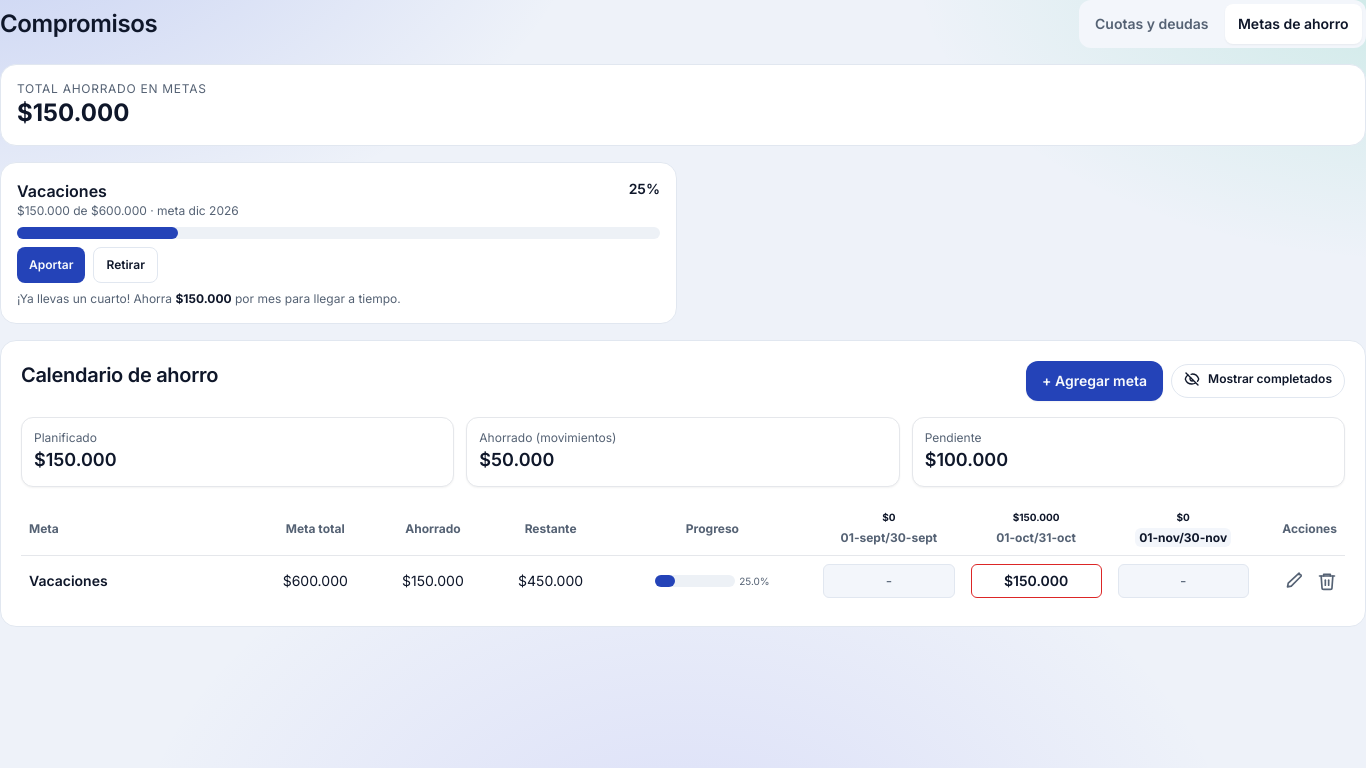
Scenario: Nueva meta de ahorro en modal › el formulario se abre con "+ Agregar meta" y se cierra con Escape
Expected: the field with placeholder "Fondo de emergencia" is not shown
Click the button "+ Agregar meta" at (1094, 381), box [1026,361,1163,401]
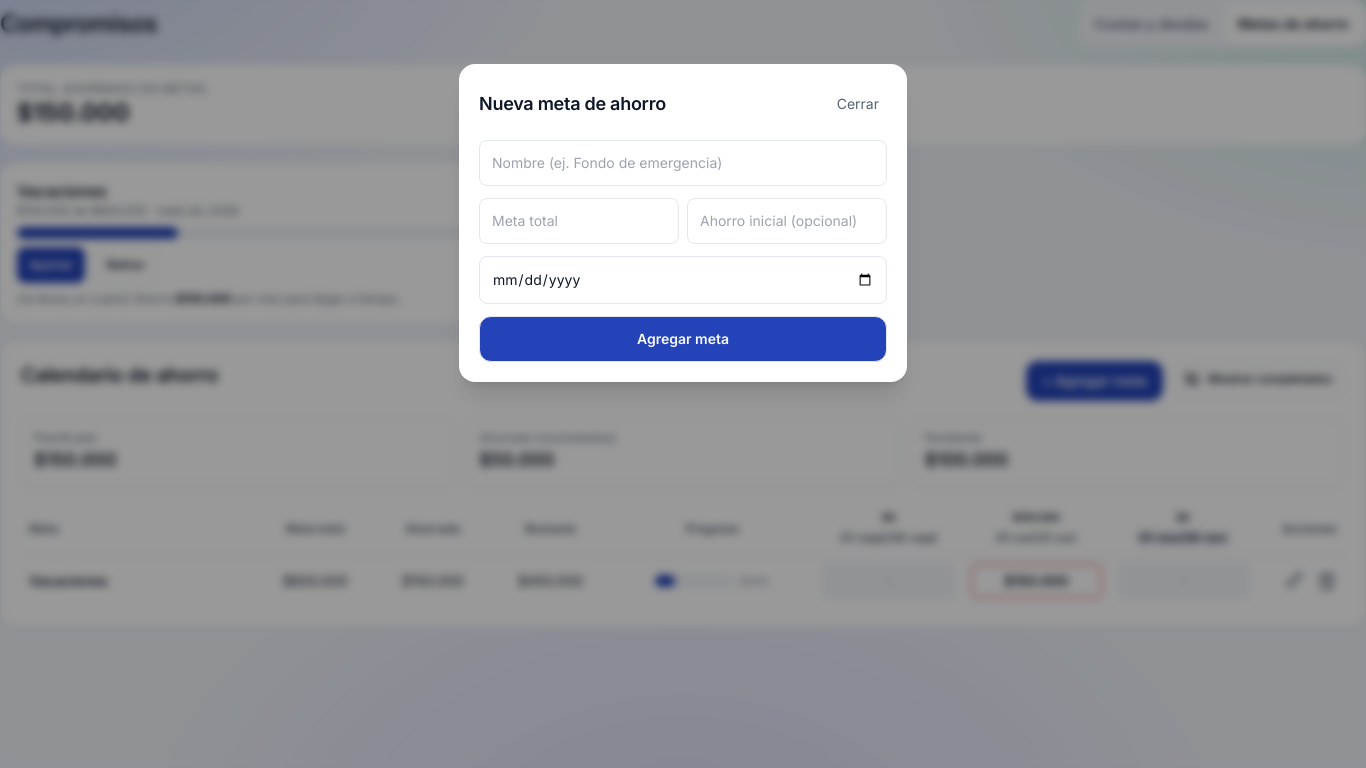
Result: the dialog "Nueva meta de ahorro" is shown at [459,64,907,382]
Result: the field with placeholder "Nombre (ej. Fondo de emergencia)" is shown at [479,140,887,186]
Press Escape
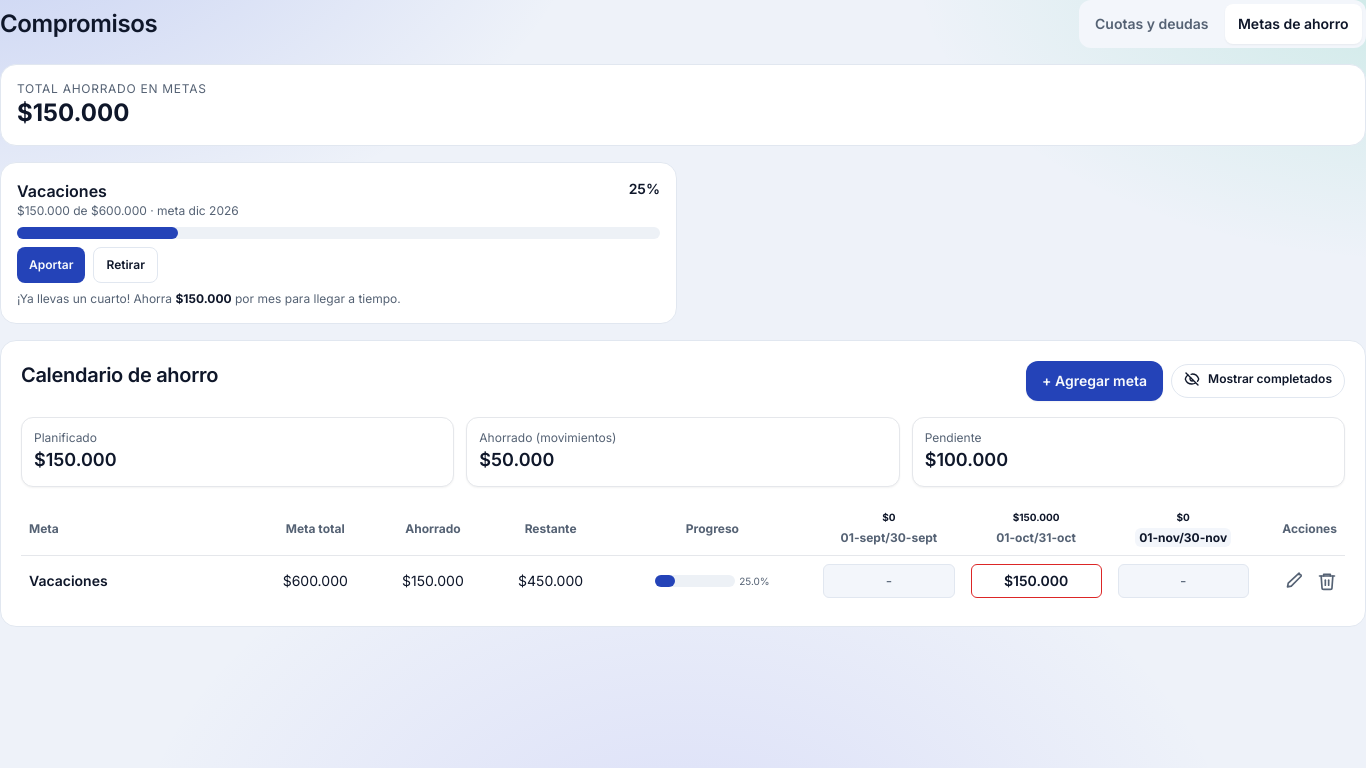
Result: the heading "Nueva meta de ahorro" is gone
